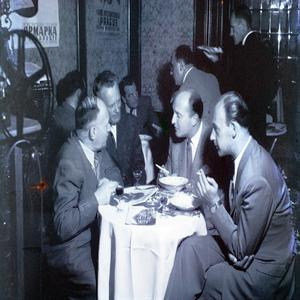cigarette: (153, 162, 170, 174), (194, 170, 205, 177)
